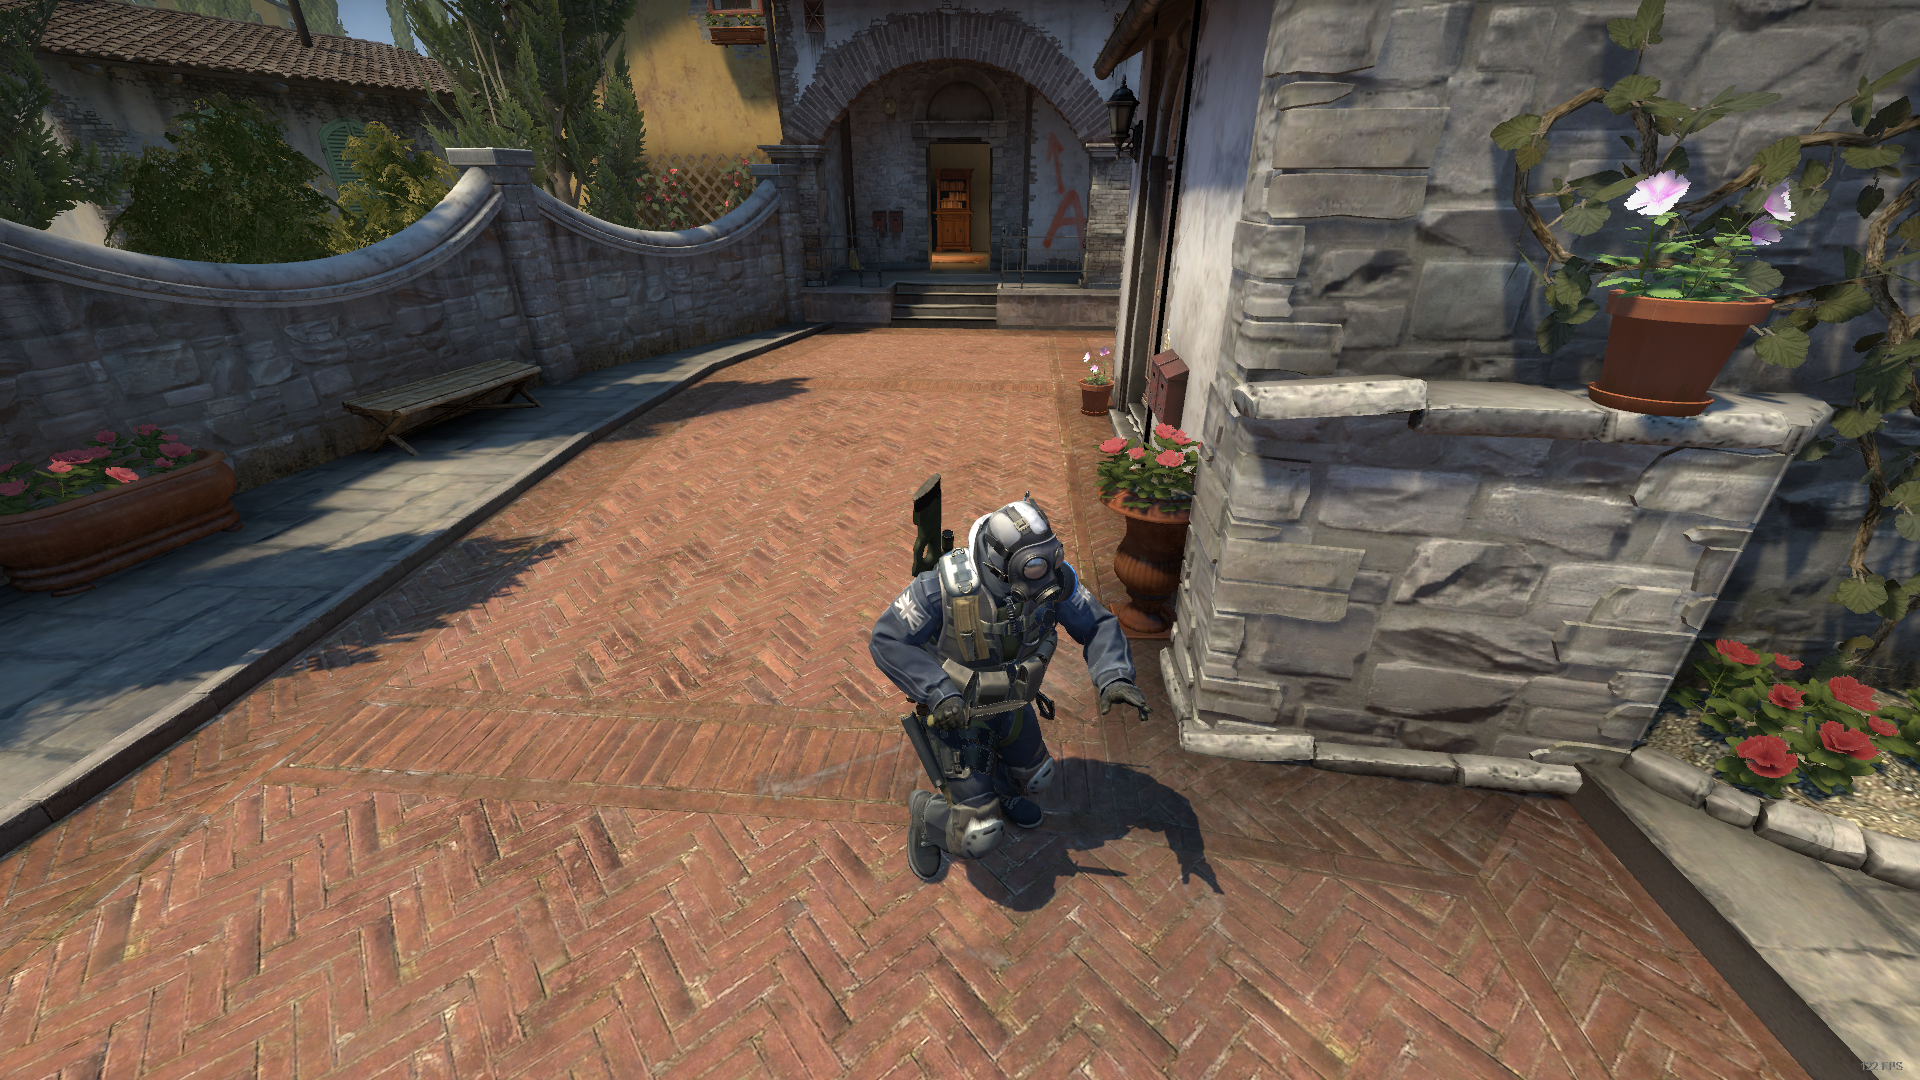ct: (872, 495, 1153, 890)
